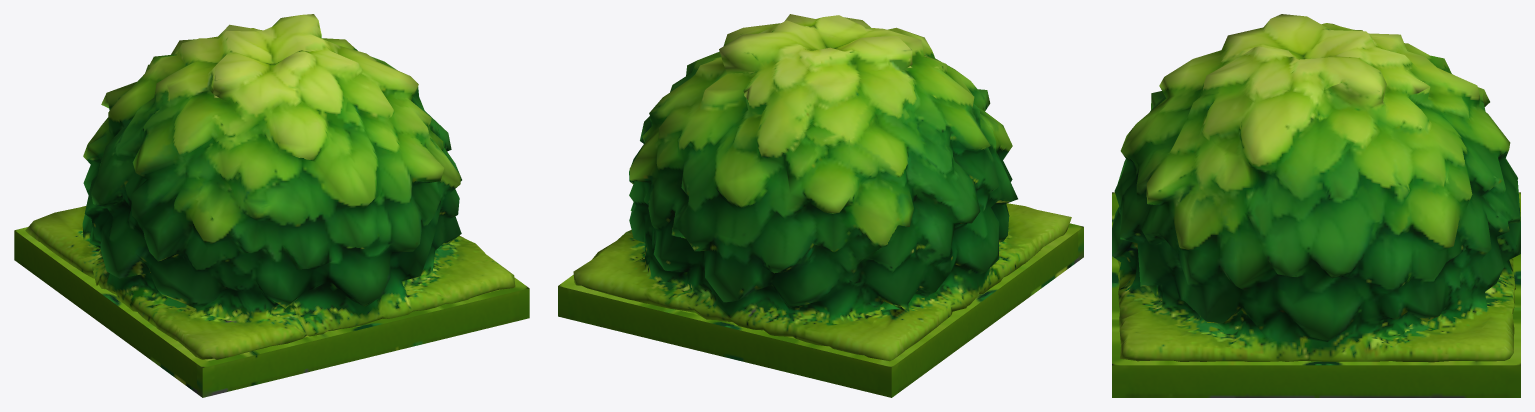
The model's file is bush.glb.
3 renders of one model, left to right at view 1: azimuth 30°, elevation 25°; view 2: azimuth 150°, elevation 25°; view 3: azimuth 270°, elevation 25°, orthographic. The views are drawn at different scales.
Parts seen in each view (by area): view 1: BushFoliage.001; view 2: BushFoliage.001; view 3: BushFoliage.001.
Boxes of the visible parts, bbox=[...] form: BushFoliage.001: bbox=[14, 14, 529, 397]; BushFoliage.001: bbox=[558, 14, 1083, 397]; BushFoliage.001: bbox=[1112, 14, 1520, 397].
Size of the model in its own units: 1 by 0.7222 by 0.9973.
1 material, 1 textured.
